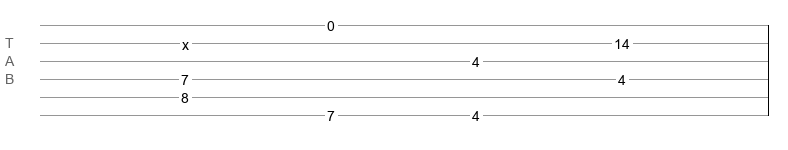0: (327, 18, 335, 28)
14: (614, 36, 630, 46)
4: (472, 54, 480, 64), (472, 108, 480, 118), (618, 72, 626, 82)
7: (181, 72, 189, 82), (327, 108, 335, 118)
8: (181, 90, 189, 100)
x: (182, 37, 189, 45)
